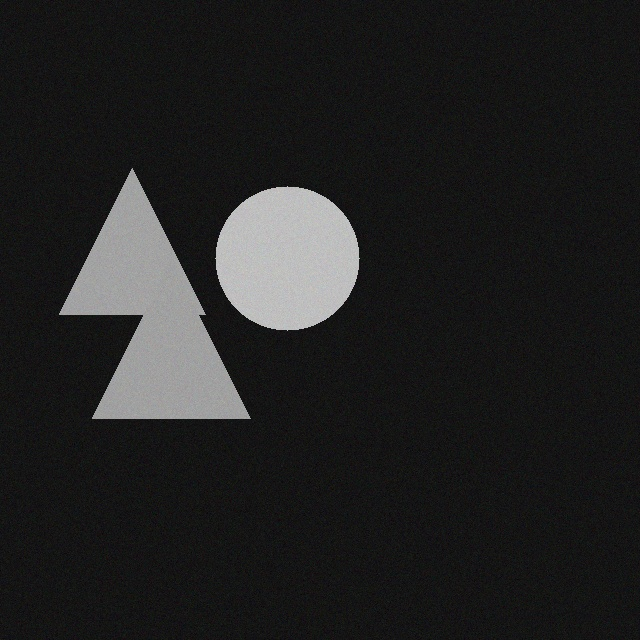circle: (225, 171, 369, 315)
triangle: (102, 245, 260, 403), (69, 153, 215, 299)
